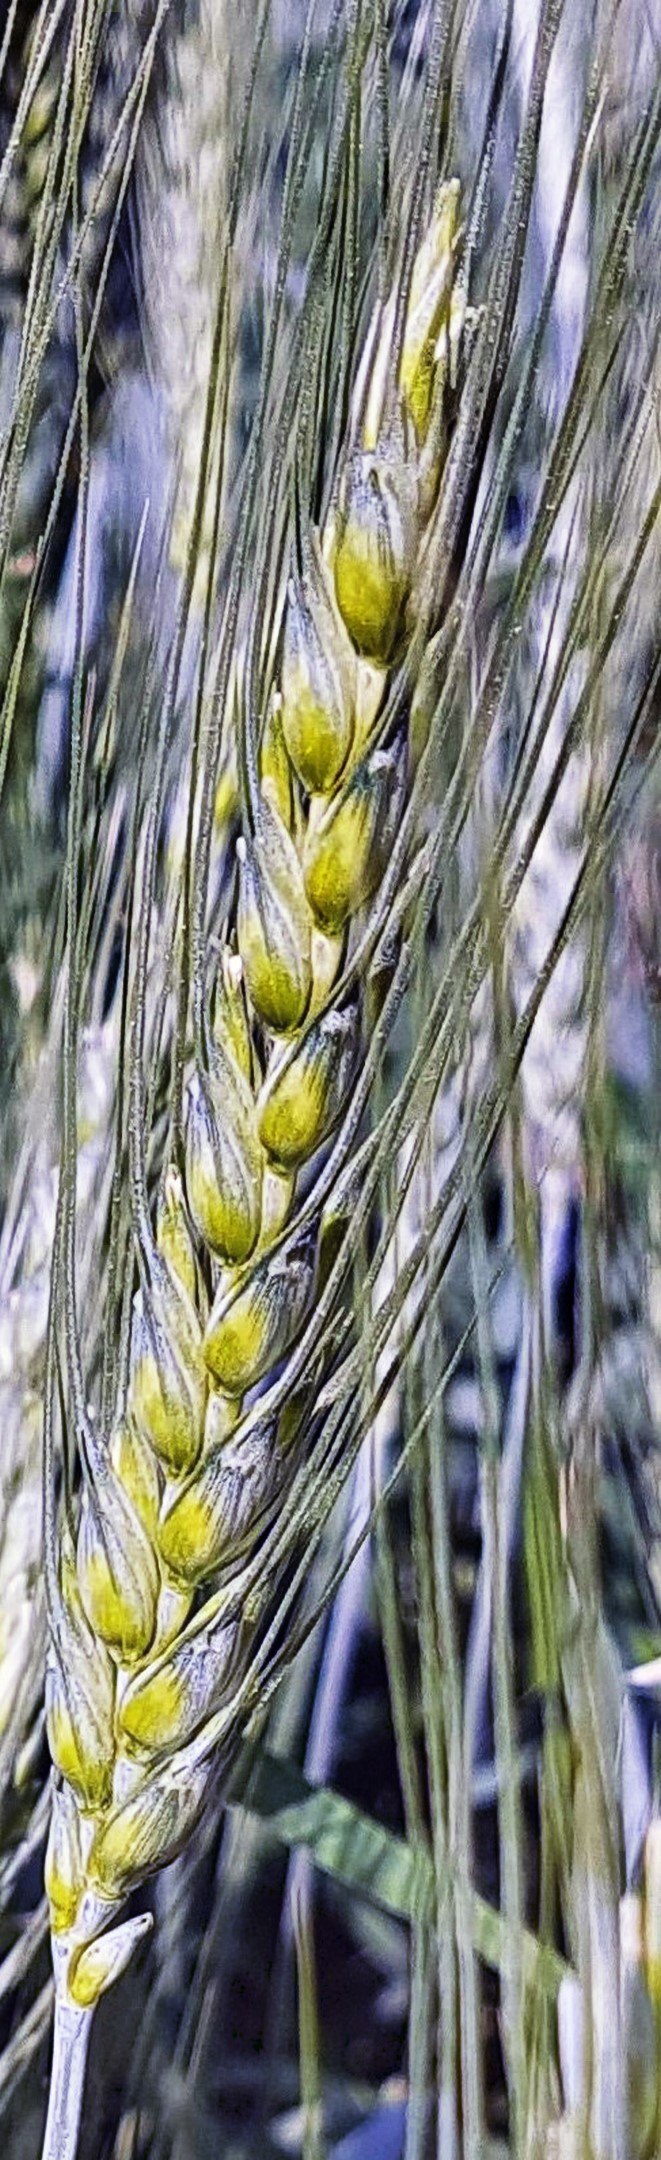Healthy Wheat: (61, 205, 540, 1926)
